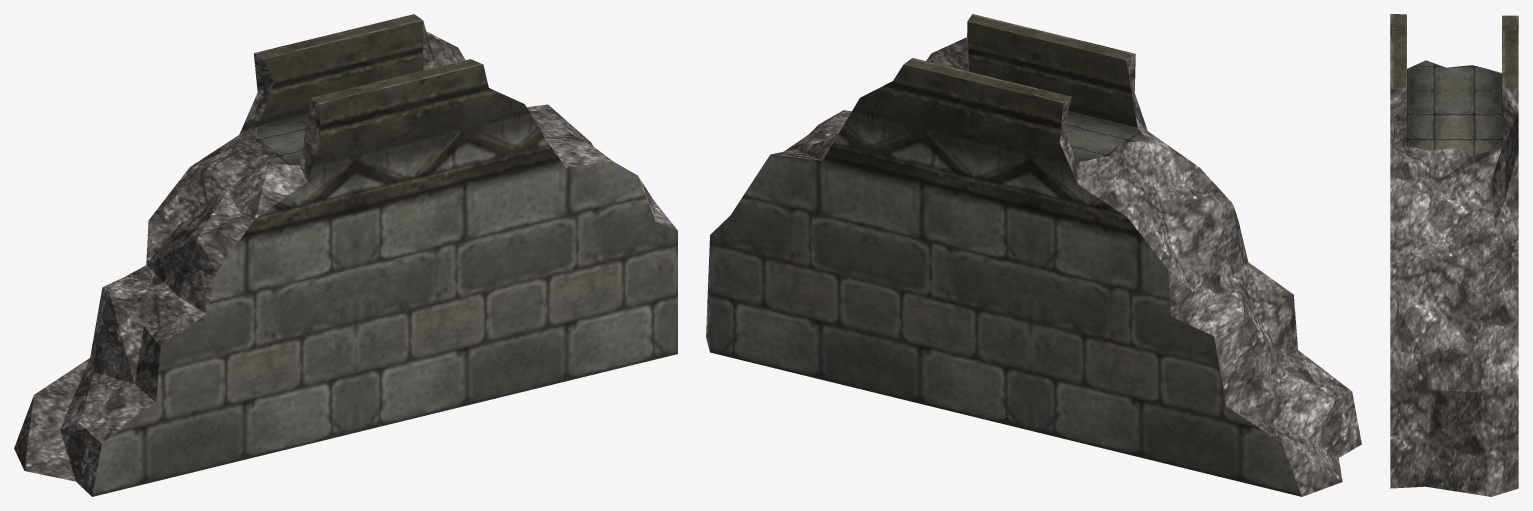
3 views of the same model, side by side, from view 1: azimuth 30°, elevation 25°; view 2: azimuth 150°, elevation 25°; view 3: azimuth 270°, elevation 25° (orthographic). The views are drawn at different scales.
Visible parts, largest first — view 1: object126; view 2: object126; view 3: object126.
Part boxes in pixels (<box>): object126: <box>14,14,677,496</box>; object126: <box>706,14,1361,496</box>; object126: <box>1390,14,1518,496</box>.
Size of the model in its own units: 508 by 260 by 96.82.
Materials: 3 (3 with a texture image).
